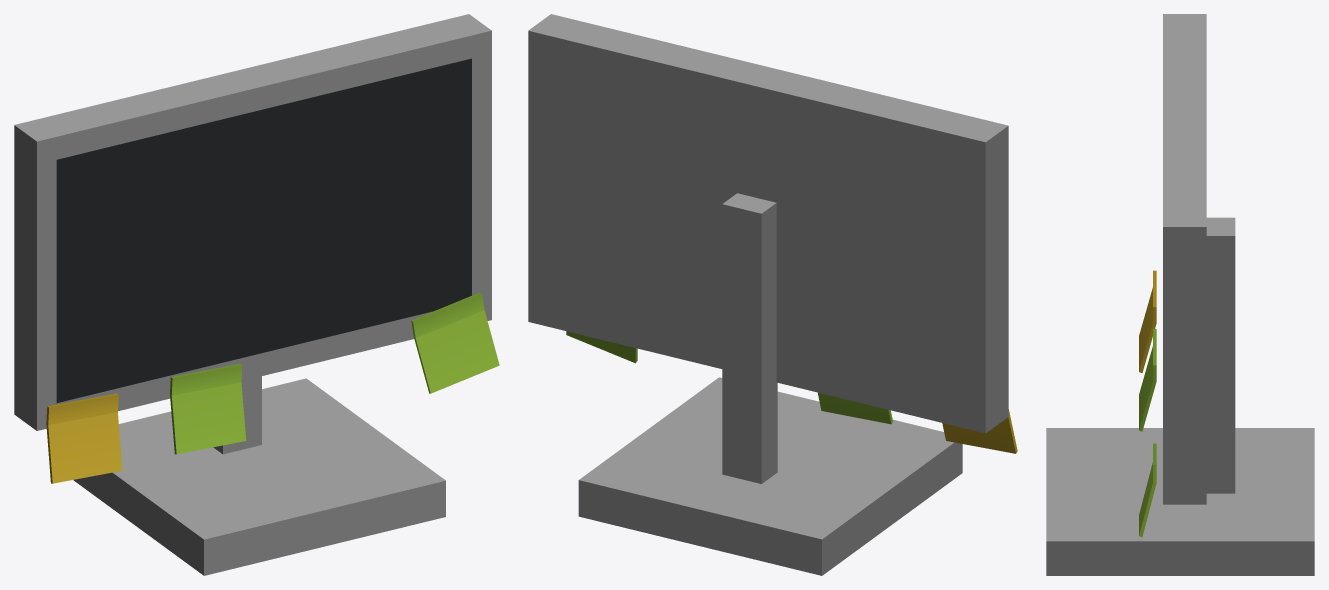
The model's file is SO_Monitor_01PostItNotes.fbx.
The picture shows the model from 3 angles, left to right: view 1: azimuth 30°, elevation 25°; view 2: azimuth 150°, elevation 25°; view 3: azimuth 270°, elevation 25°; orthographic projection. The views are drawn at different scales.
Visible parts, largest first — view 1: SO_Monitor_01PostItNotes; view 2: SO_Monitor_01PostItNotes; view 3: SO_Monitor_01PostItNotes.
Boxes of the visible parts, x1=… form: SO_Monitor_01PostItNotes: x1=14, y1=14, x2=499, y2=575; SO_Monitor_01PostItNotes: x1=528, y1=14, x2=1017, y2=575; SO_Monitor_01PostItNotes: x1=1046, y1=14, x2=1314, y2=575.
Size of the model in its own units: 1.27 by 1.11 by 0.6764.
